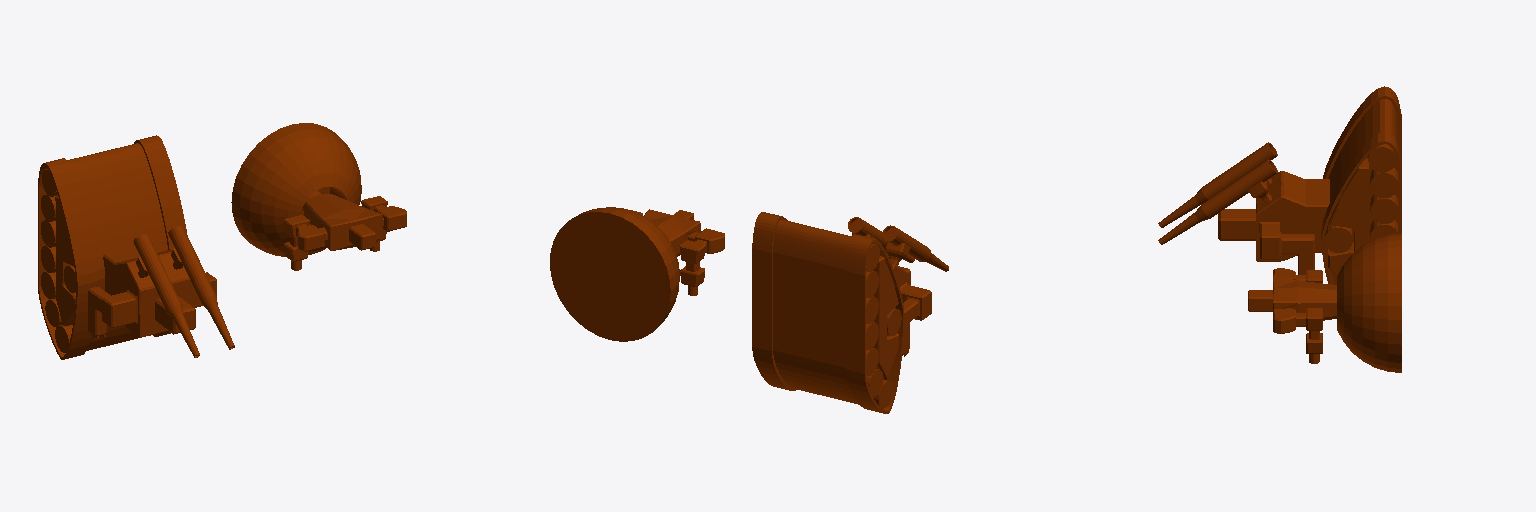
File: 2enemies.obj
The picture shows the model from 3 angles: view 1: azimuth 30°, elevation 25°; view 2: azimuth 150°, elevation 25°; view 3: azimuth 270°, elevation 25°; orthographic projection.
Visible parts, largest first — view 1: Line001, Sphere001, Object001; view 2: Line001, Sphere001, Object001; view 3: Line001, Sphere001.
Part boxes in pixels (left/top/right/bottom): Line001: left=38, top=135, right=234, bottom=359; Sphere001: left=231, top=123, right=406, bottom=256; Object001: left=283, top=215, right=324, bottom=270; Line001: left=752, top=212, right=948, bottom=413; Sphere001: left=550, top=207, right=700, bottom=341; Object001: left=679, top=228, right=724, bottom=295; Line001: left=1158, top=86, right=1401, bottom=284; Sphere001: left=1248, top=233, right=1401, bottom=372.
Size of the model in its own units: 109 by 61.35 by 72.98.